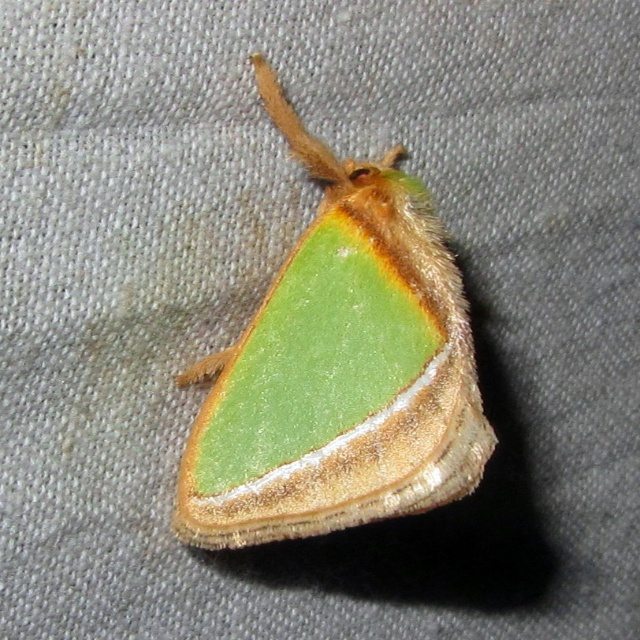Moths and butterflies: (172, 50, 501, 555)
